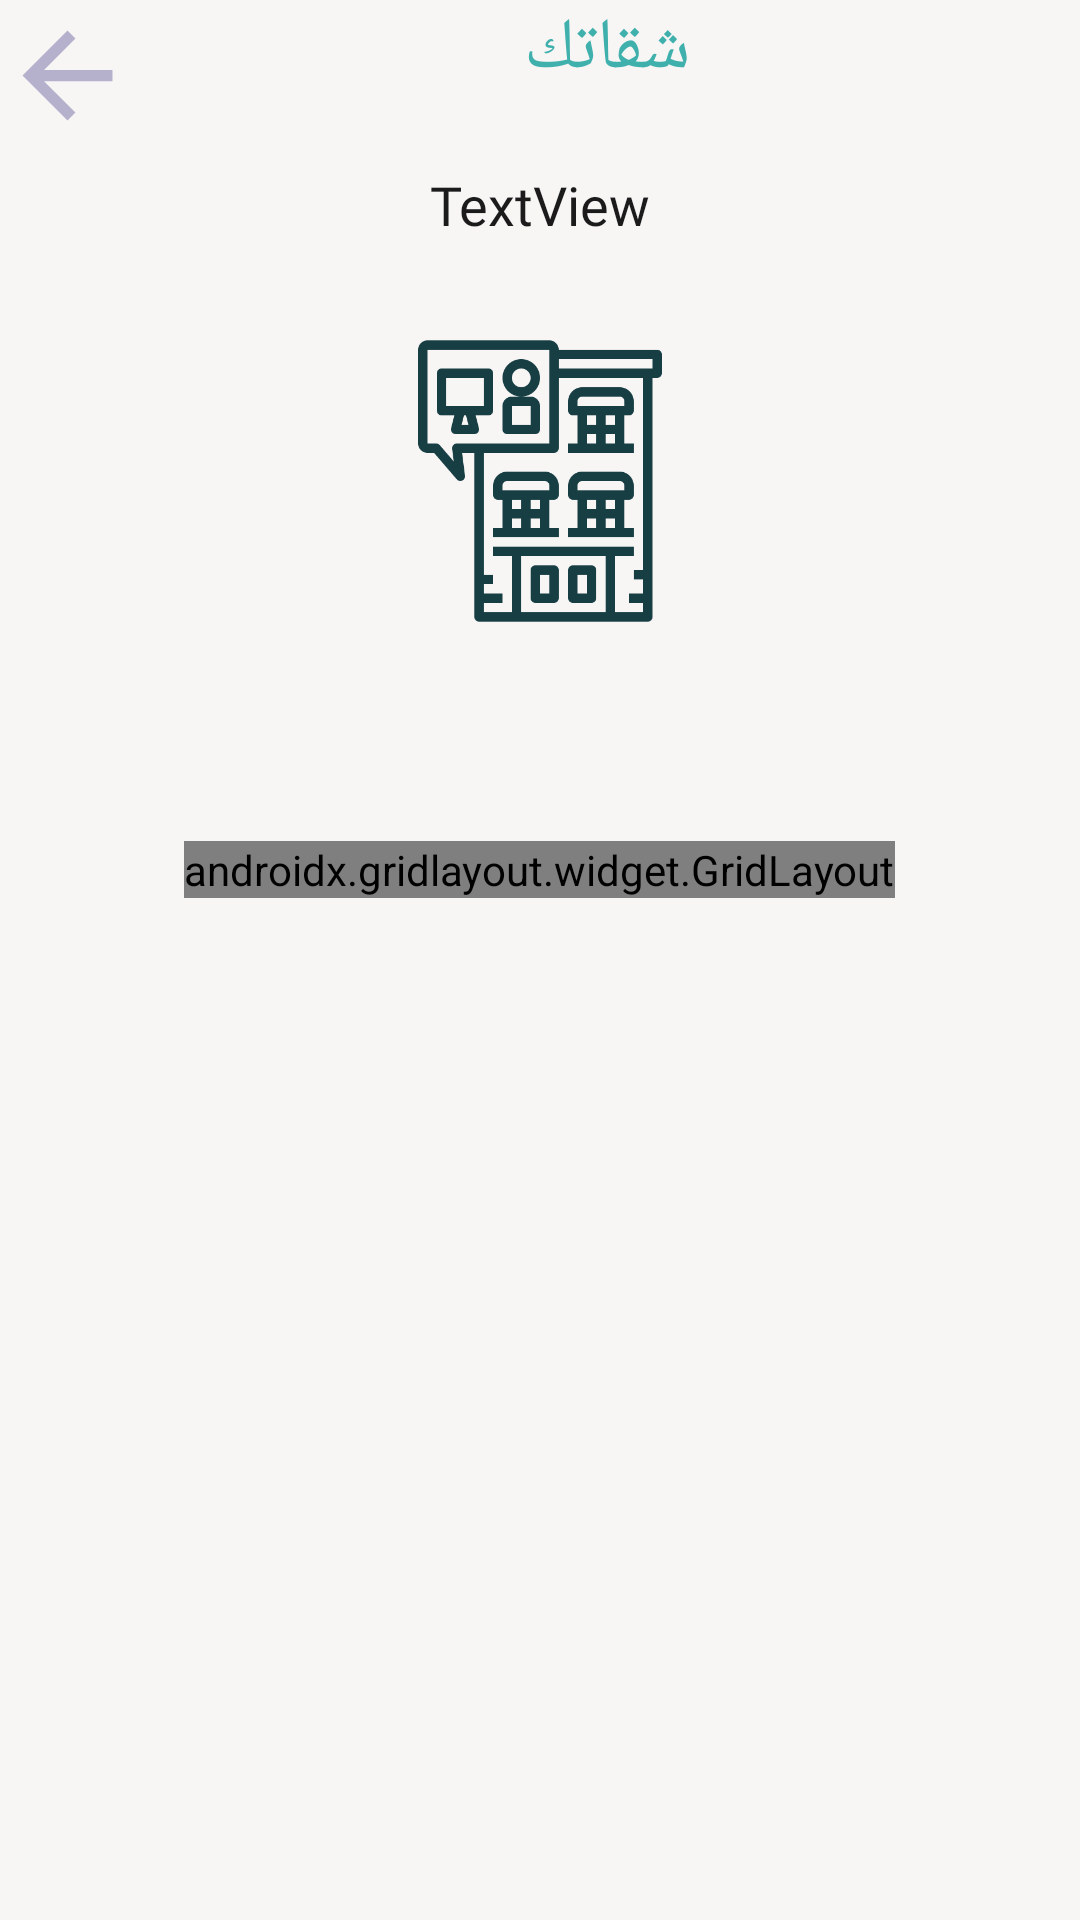

Where to tap for icons on this 1080px×1920px app screen, as point (x, y):
arrow back: point (68, 75)
